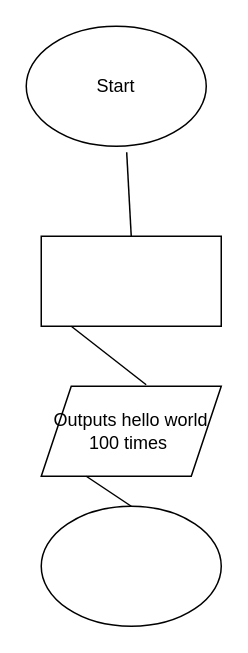
This 248x653 diagram has some shape labels left out. The centre of each missing label's shape, as x and y in pixels:
"End" belongs at (130,565).
"Parameter usage set to print our stament 100 times" belongs at (130,280).
